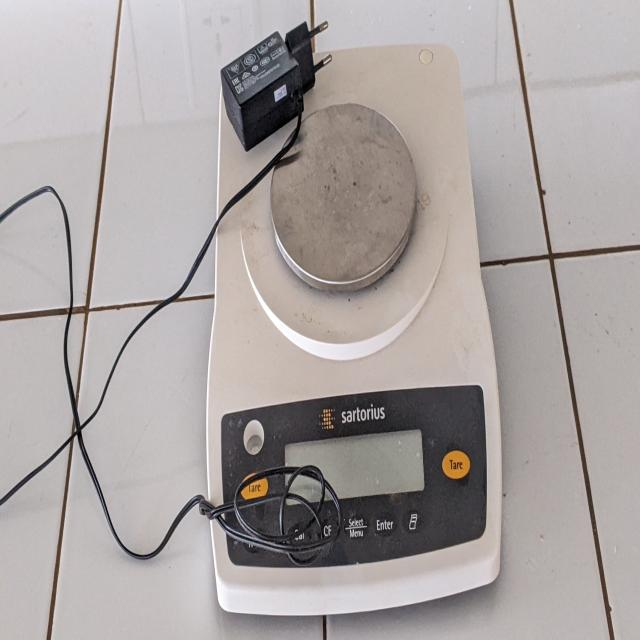Electronic Balance: (217, 54, 508, 612)
